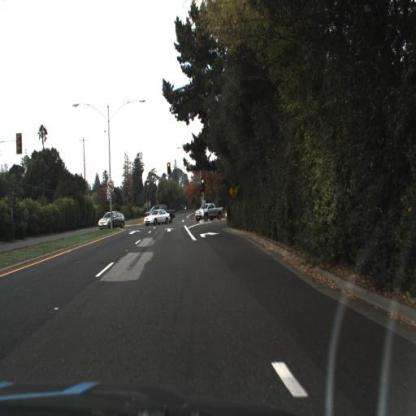car: (193, 202, 227, 226), (97, 210, 127, 232), (143, 207, 172, 227), (145, 203, 179, 217)
trafficLight-Red: (200, 179, 209, 196), (165, 162, 173, 179)
